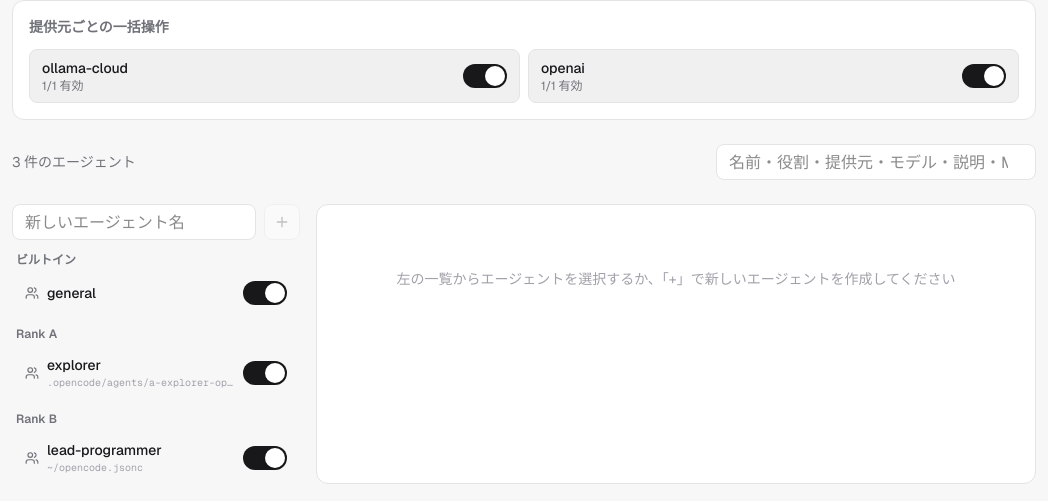
AgentsSettings › shows a no-match message when the query matches nothing
Expected: the heading "Rank A" is shown, [16, 326, 57, 342]
In the search field named "エージェントを検索": (876, 162) [716, 144, 1036, 180], type "zzz"
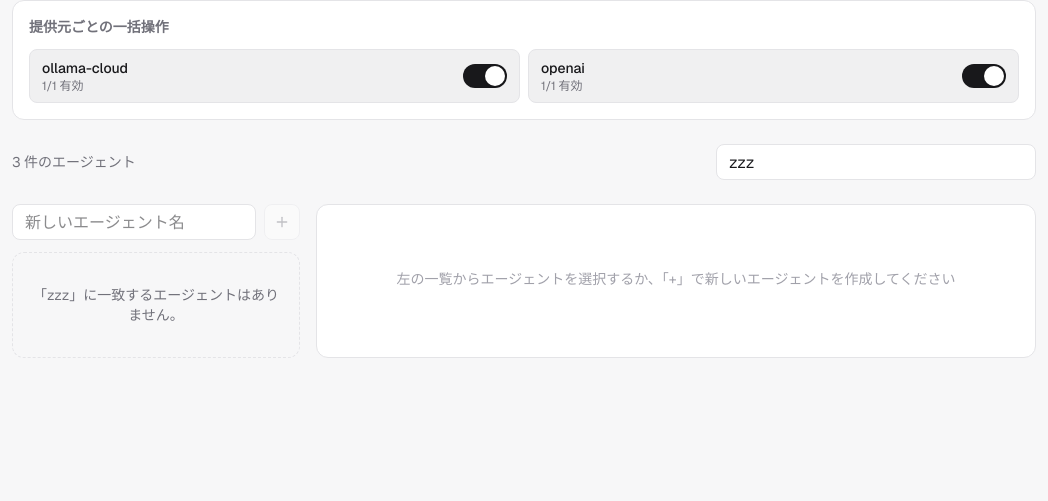
Now the text "「zzz」に一致するエージェントはありません。" is shown, box [12, 252, 300, 358]
